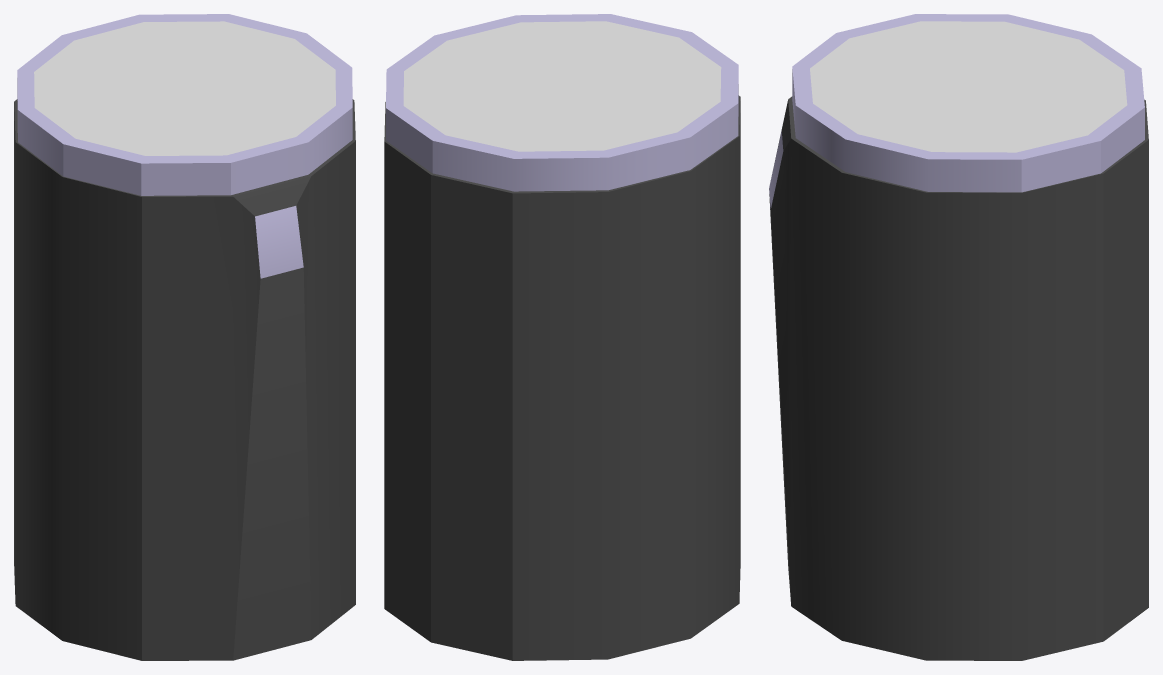
Rendered from WashingMachine2.fbx.
The picture shows the model from 3 angles, left to right: view 1: azimuth 30°, elevation 25°; view 2: azimuth 150°, elevation 25°; view 3: azimuth 270°, elevation 25°; orthographic projection.
Parts seen in each view (by area): view 1: WashingMachine; view 2: WashingMachine; view 3: WashingMachine.
Boxes of the visible parts, x1=… form: WashingMachine: x1=14, y1=14, x2=355, y2=660; WashingMachine: x1=384, y1=14, x2=740, y2=660; WashingMachine: x1=769, y1=14, x2=1148, y2=660.
Size of the model in its own units: 0.5251 by 0.8351 by 0.5741.
